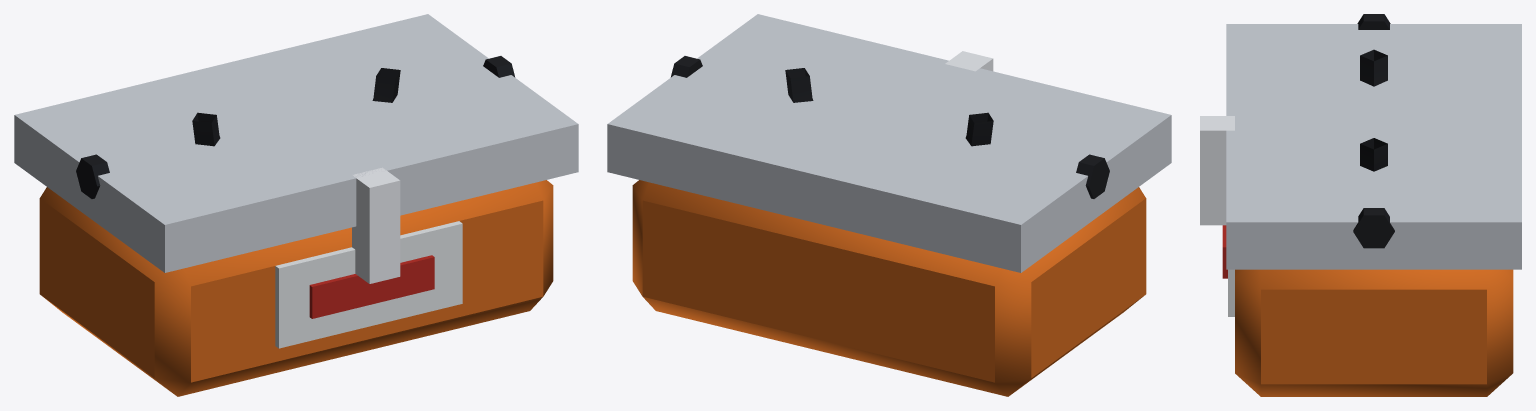
The model's file is tableware_lunch_box.glb.
3 renders of one model, left to right at view 1: azimuth 30°, elevation 25°; view 2: azimuth 150°, elevation 25°; view 3: azimuth 270°, elevation 25°, orthographic.
Visible parts, largest first — view 1: tableware_lunch_box; view 2: tableware_lunch_box; view 3: tableware_lunch_box.
Boxes of the visible parts, <box> form: tableware_lunch_box: <box>14,14,578,396</box>; tableware_lunch_box: <box>607,14,1171,396</box>; tableware_lunch_box: <box>1200,14,1521,396</box>.
Size of the model in its own units: 0.274 by 0.135 by 0.185.
